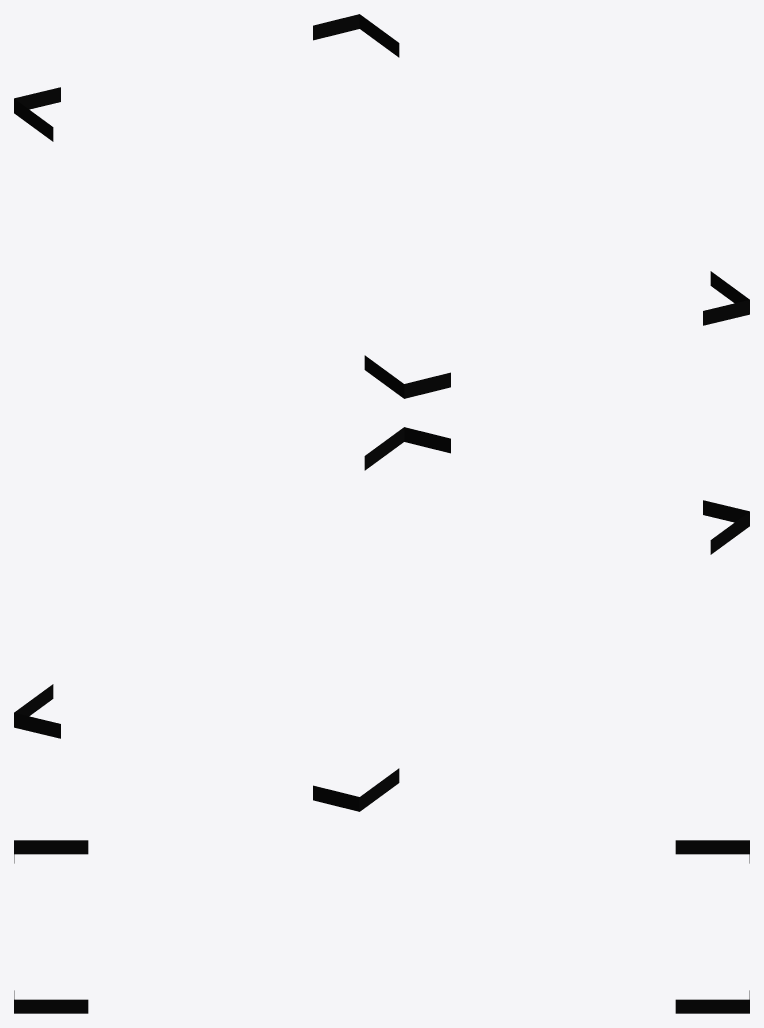
File: building8-balcony2.fbx
3 renders of one model, top to bottom at view 1: azimuth 30°, elevation 25°; view 2: azimuth 150°, elevation 25°; view 3: azimuth 270°, elevation 25°, orthographic. The views are drawn at different scales.
Parts seen in each view (by area): view 1: building8-balcony2; view 2: building8-balcony2; view 3: building8-balcony2.
Part boxes in pixels (bbox=[...]): building8-balcony2: bbox=[14, 14, 749, 398]; building8-balcony2: bbox=[14, 427, 749, 811]; building8-balcony2: bbox=[14, 840, 749, 1013].
Size of the model in its own units: 24.38 by 1 by 47.67.
